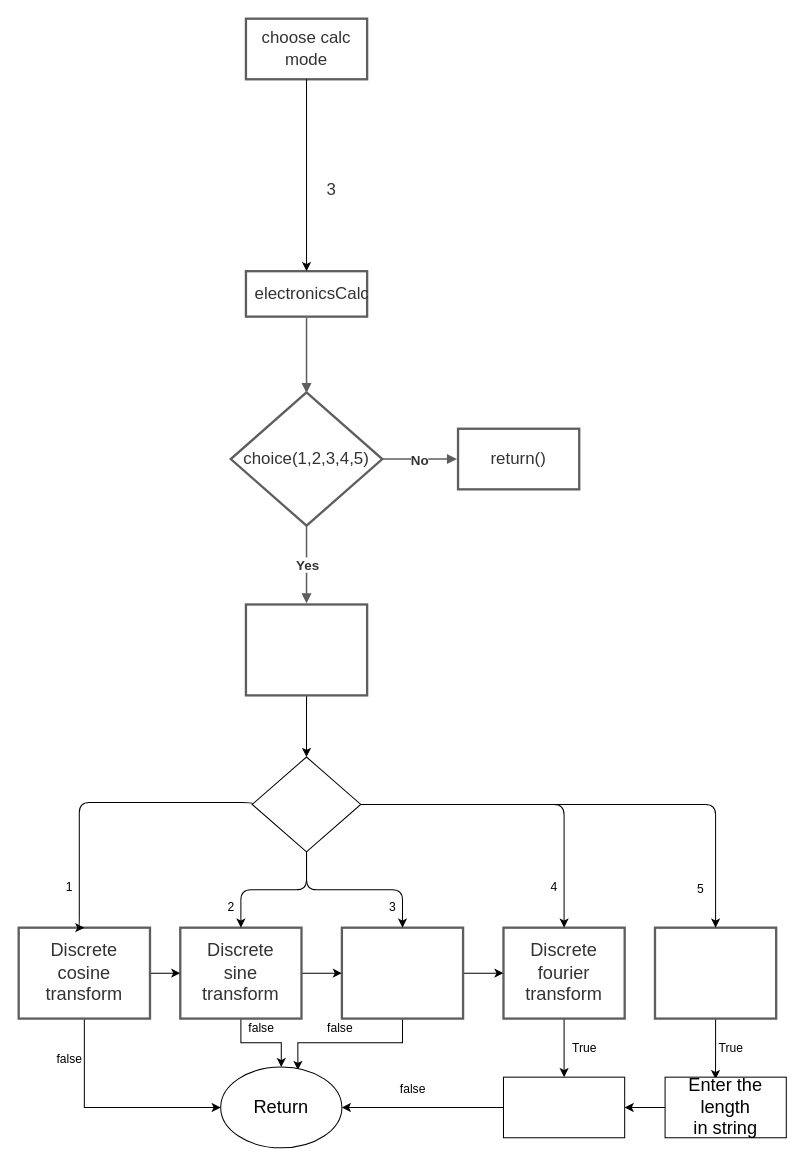
The diagram is 804 pixels wide and 1166 high, and some of its shapes have lost their labels. Each missing label, with the centre of its shape:
"Compressons" goes at pixel 563 1107.
"Hadmard transform" goes at pixel 402 972.
"IF CHOICE" goes at pixel 306 804.
"Run length compression" goes at pixel 715 972.
"Transformation" goes at pixel 306 649.
